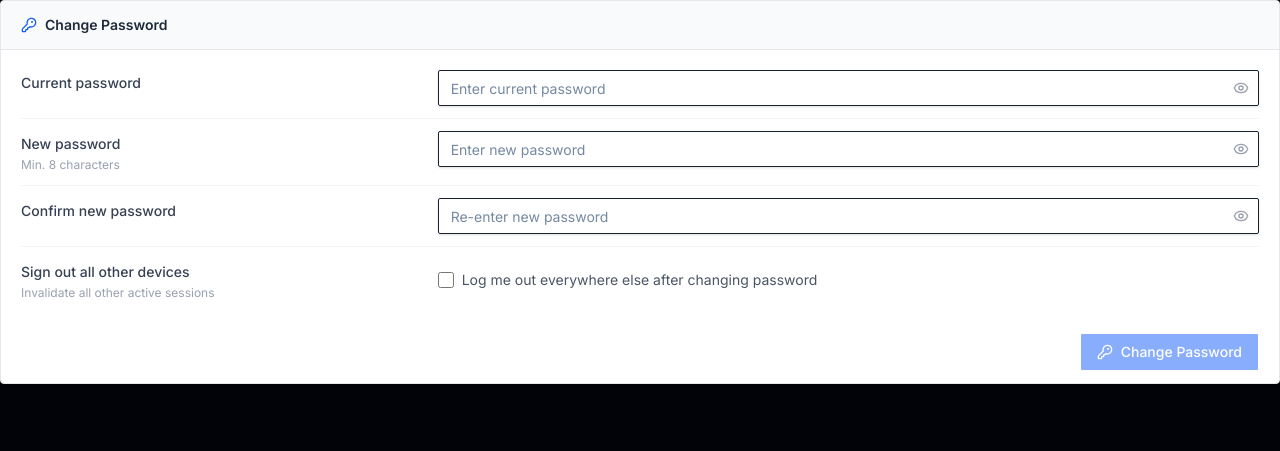
Test: ChangePasswordSection — client-side validation › shows 'New passwords do not match.' when confirm differs from new password
Type "CurrentPass1!" into the password field with placeholder "Enter current password" at (848, 88), box [438,70,1259,106]
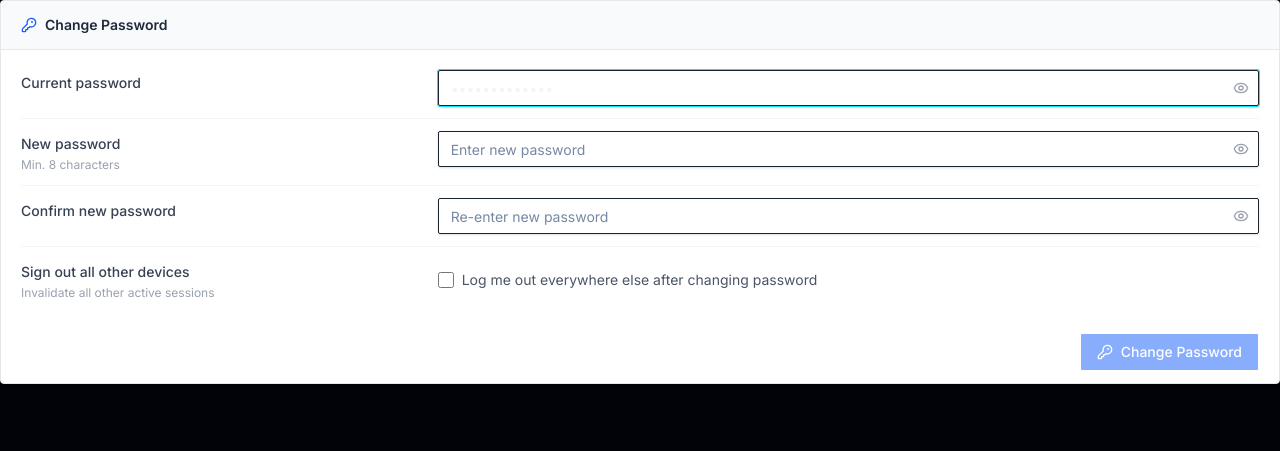
Type "NewPass123!" into the password field with placeholder "Enter new password" at (848, 149), box [438,131,1259,167]
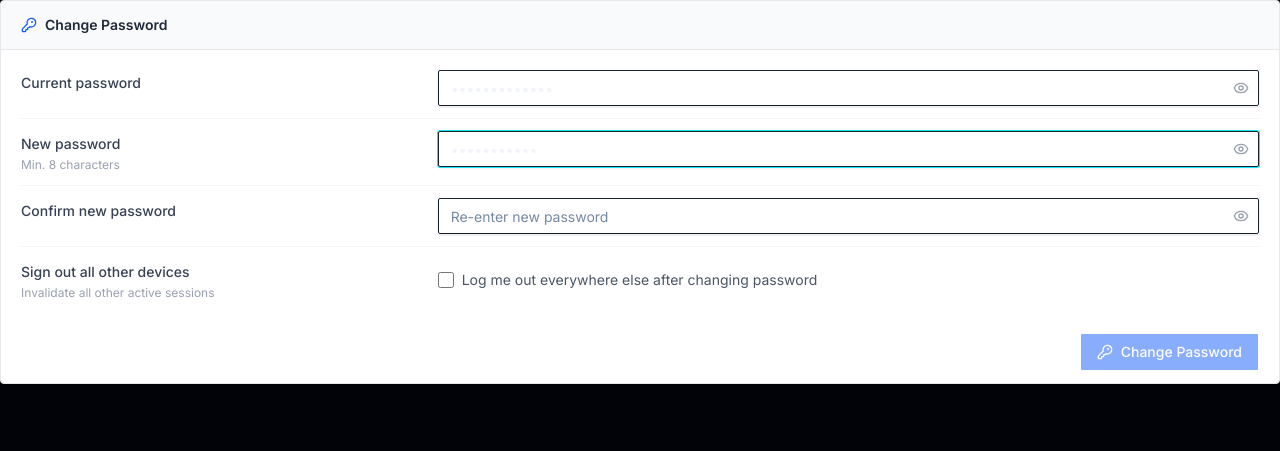
Type "DifferentPass!" into the password field with placeholder "Re-enter new password" at (848, 216), box [438,198,1259,234]
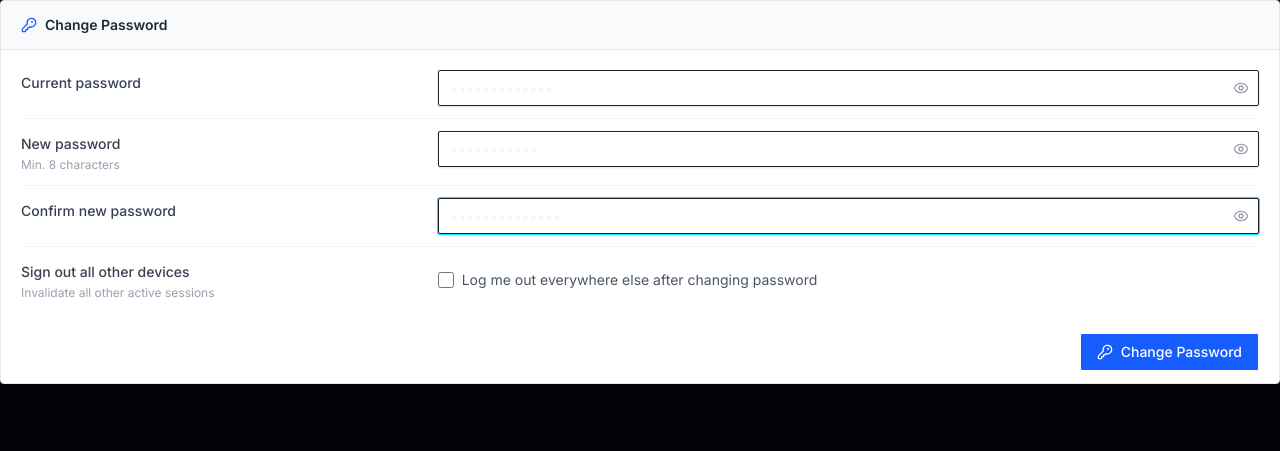
Click the button "Change Password" at (1169, 352), box [1080,333,1259,371]
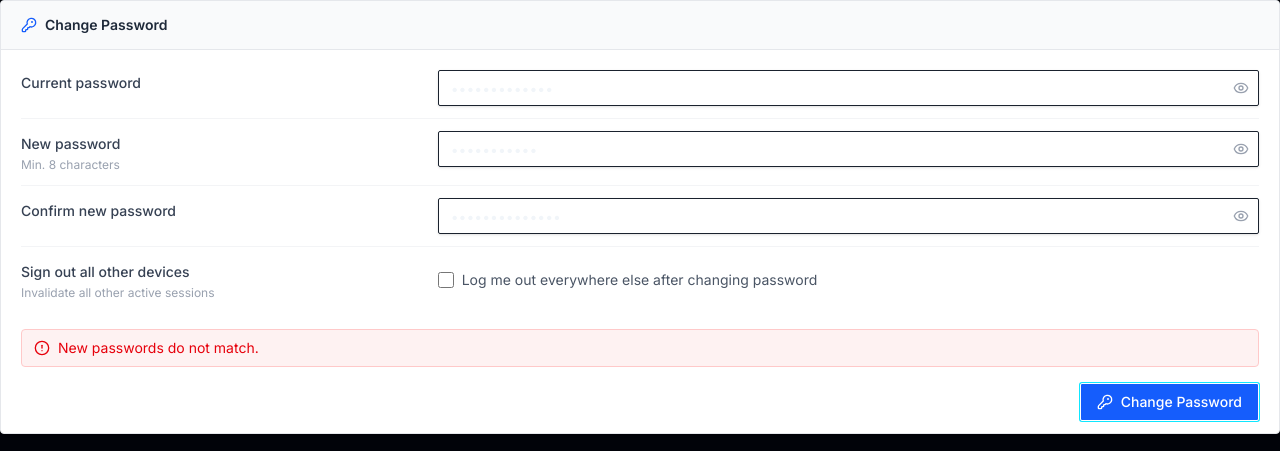
Check: the message reads "New passwords do not match.", box [58,339,259,356]
